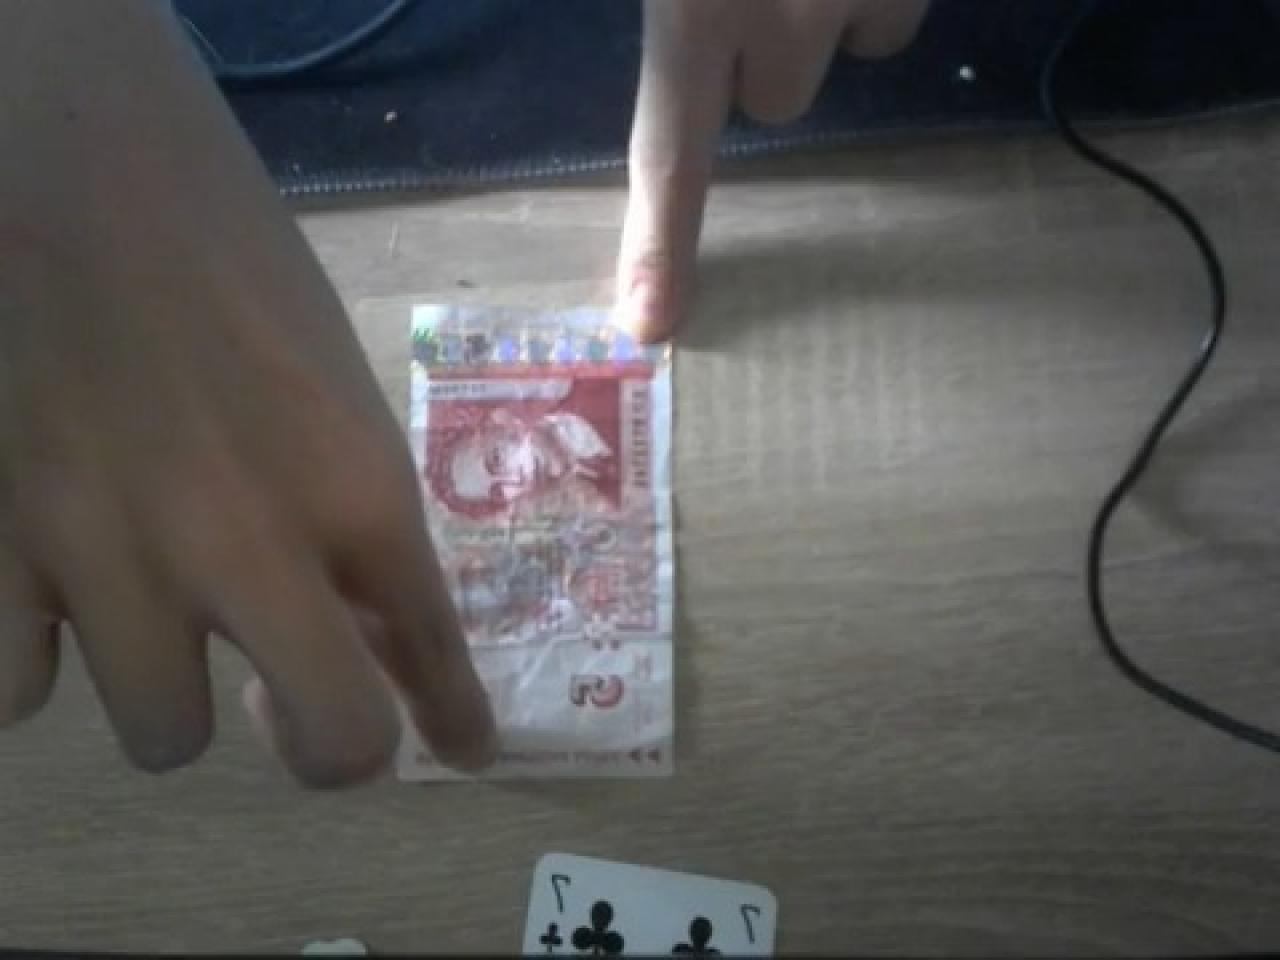5leva: (403, 302, 677, 782)
